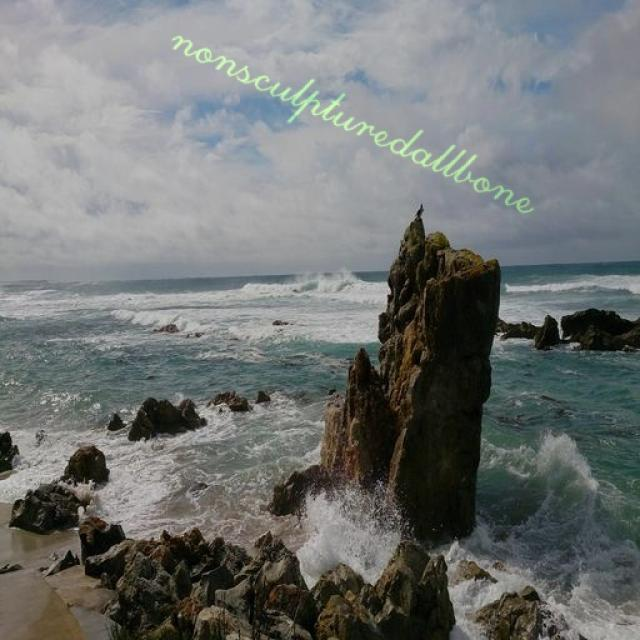watermark: (158, 12, 562, 224)
